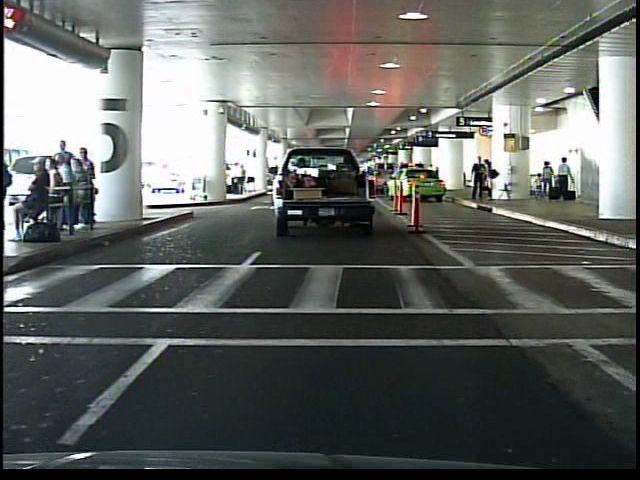person: (469, 154, 487, 206), (483, 159, 499, 204)
